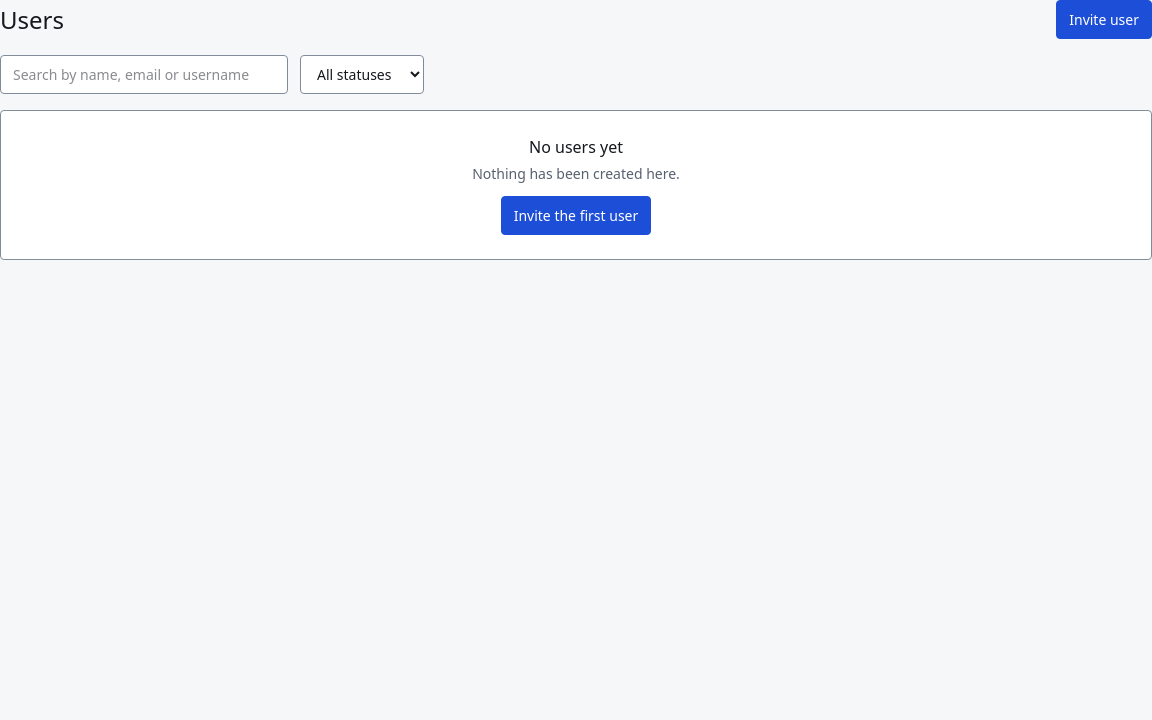
the invite flow › is one flow in two steps, with the step announced
The width and height of the screenshot is (1152, 720).
Click the button "Invite user". click: (1104, 20)
box: [1056, 0, 1151, 39]
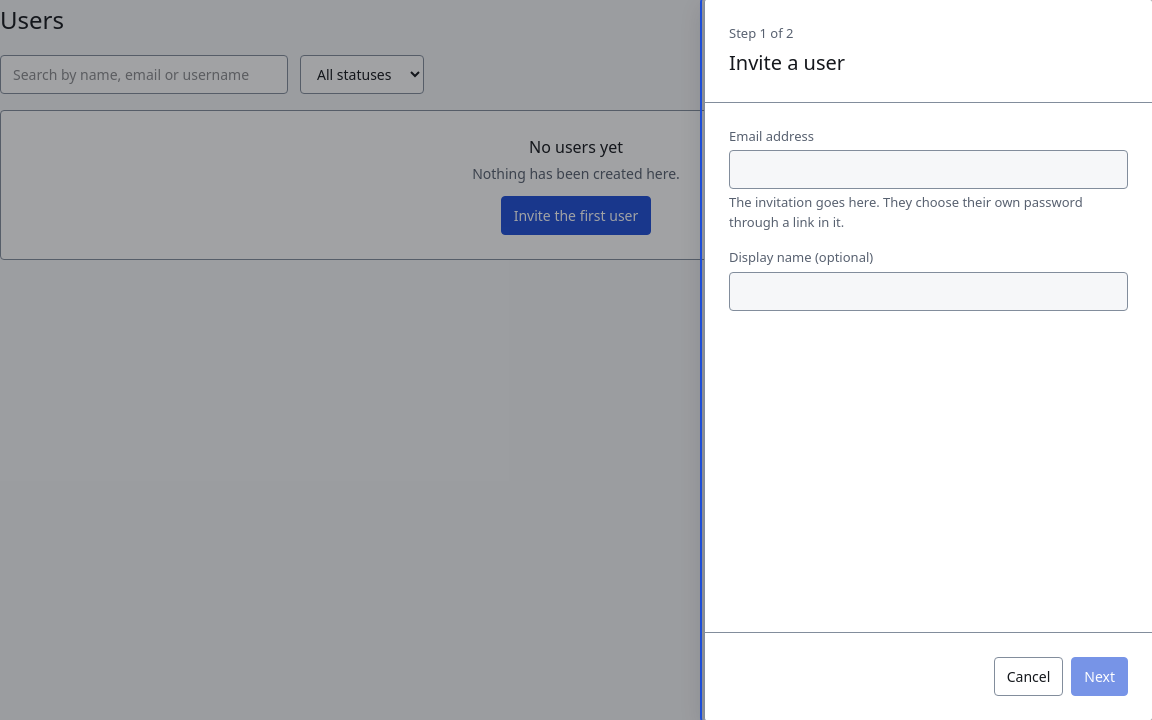
Expected: the text "Step 1 of 2" is shown, [729, 24, 794, 42]
Type "new@example.test" into the field labelled "Email address". click: (928, 170)
box: [729, 150, 1128, 189]
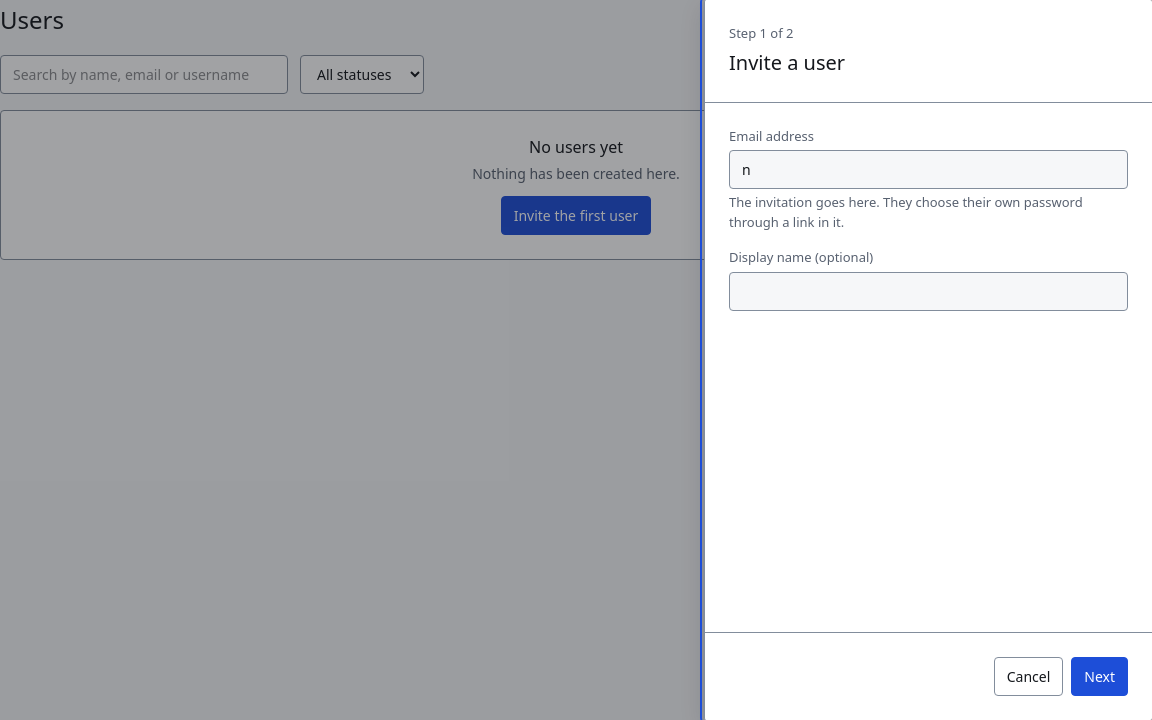
Click the button "Next". click: (1100, 676)
box: [1071, 657, 1128, 696]
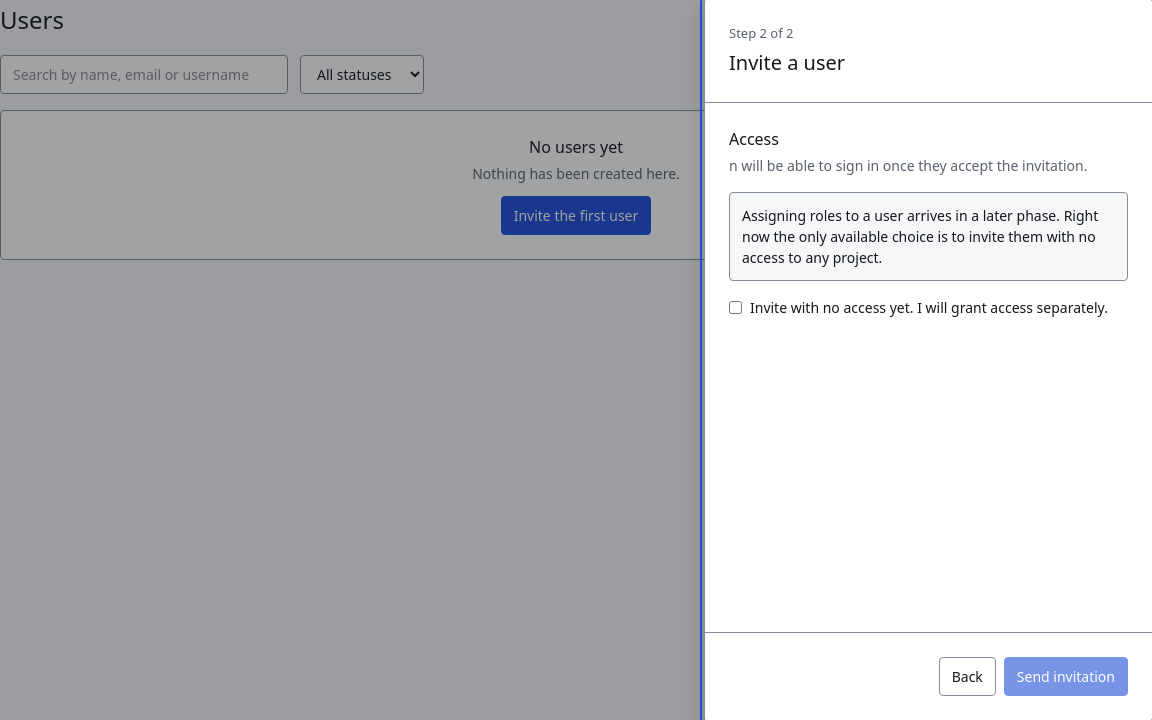
Expected: the text "Step 2 of 2" is shown, [729, 24, 794, 42]
